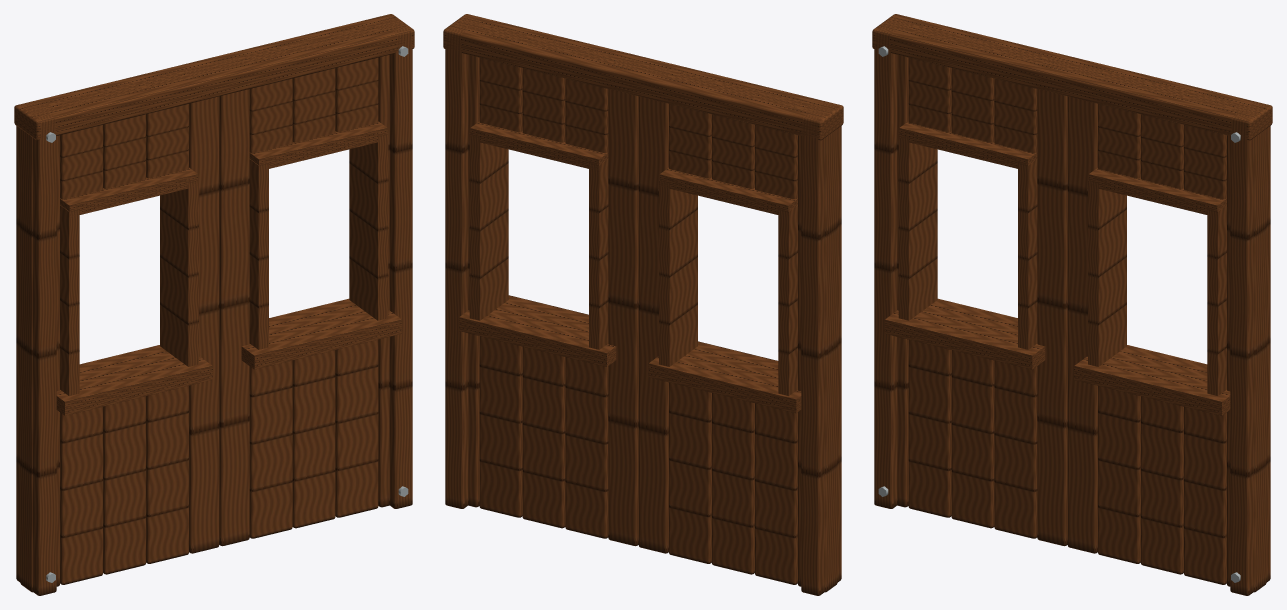
Rendered from modular-survival-base-builder-wall-double-window-2c9410b6__24155.glb.
3 renders of one model, left to right at view 1: azimuth 30°, elevation 25°; view 2: azimuth 150°, elevation 25°; view 3: azimuth 330°, elevation 25°, orthographic.
Visible parts, largest first — view 1: wall-double-window; view 2: wall-double-window; view 3: wall-double-window.
Boxes of the visible parts, left/top/right/bottom form: wall-double-window: left=14, top=14, right=414, bottom=595; wall-double-window: left=443, top=14, right=843, bottom=595; wall-double-window: left=872, top=14, right=1272, bottom=595.
Size of the model in its own units: 2 by 2.4 by 0.3199.
2 materials, 1 textured.
